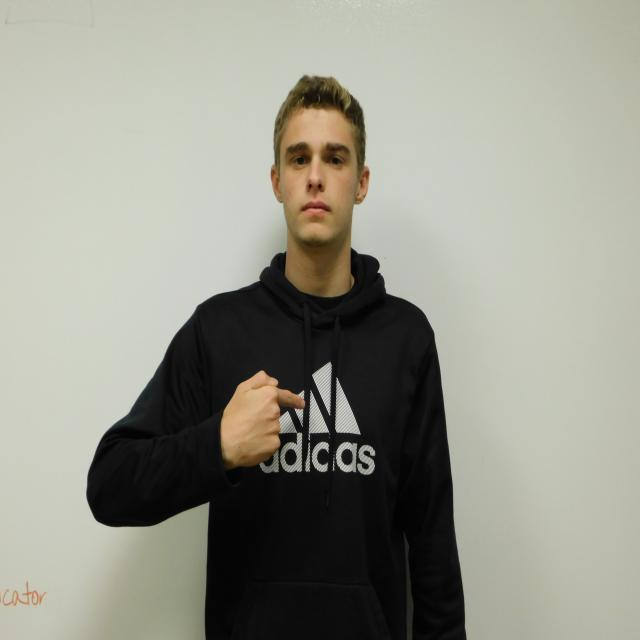I: (223, 370, 305, 468)
